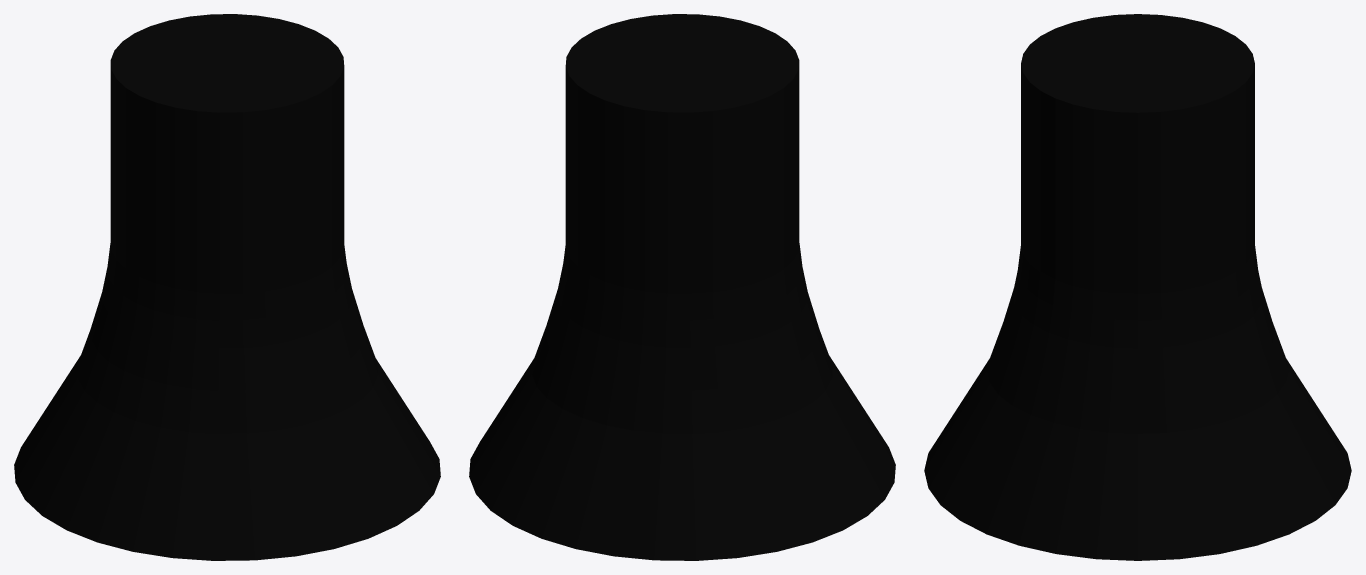
Rendered from Pawn_Column_LD.gltf.
The picture shows the model from 3 angles, left to right: view 1: azimuth 30°, elevation 25°; view 2: azimuth 150°, elevation 25°; view 3: azimuth 270°, elevation 25°; orthographic projection.
Parts seen in each view (by area): view 1: Column; view 2: Column; view 3: Column.
Part boxes in pixels (x1,y1,x2,y2): Column: [14, 14, 440, 560]; Column: [469, 14, 895, 560]; Column: [924, 14, 1351, 560].
Size of the model in its own units: 1.5 by 1.58 by 1.5.
Materials: 1 (1 with a texture image).
